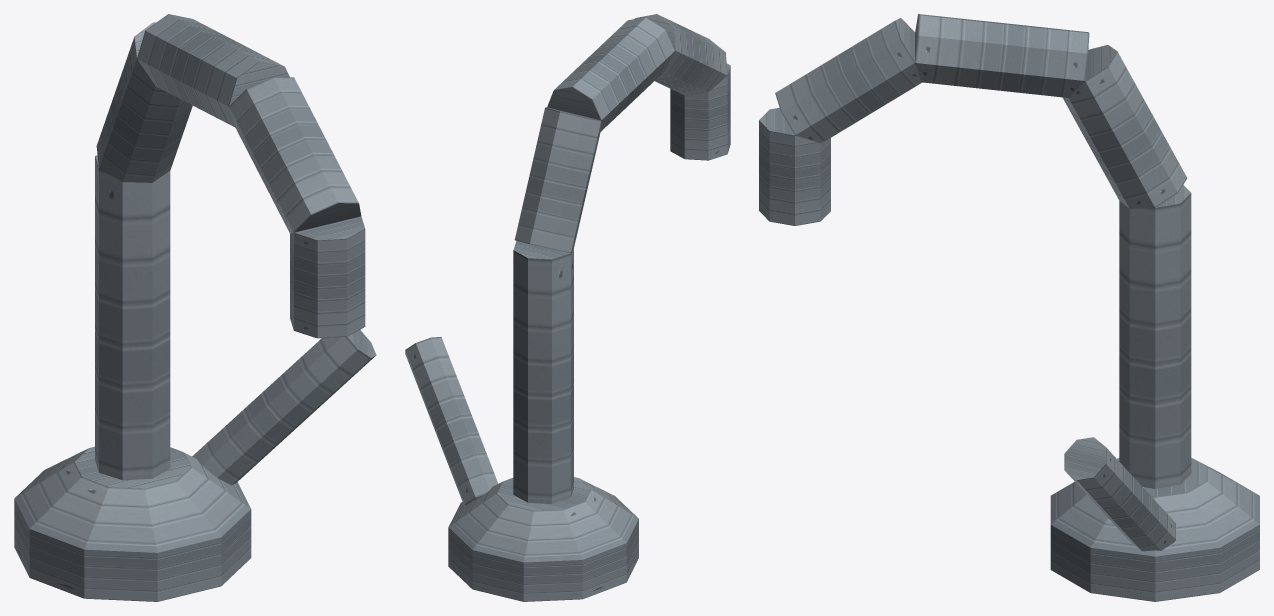
File: MD_54_MixerTap.fbx
3 renders of one model, left to right at view 1: azimuth 30°, elevation 25°; view 2: azimuth 150°, elevation 25°; view 3: azimuth 270°, elevation 25°, orthographic. The views are drawn at different scales.
Parts seen in each view (by area): view 1: MD_54_MixerTap_faucet_mount, MD_54_MixerTap_gooseneck_0, MD_54_MixerTap_gooseneck_3, MD_54_MixerTap_mixer_control, MD_54_MixerTap_gooseneck_2, MD_54_MixerTap_gooseneck_4, MD_54_MixerTap_gooseneck_1; view 2: MD_54_MixerTap_faucet_mount, MD_54_MixerTap_gooseneck_0, MD_54_MixerTap_gooseneck_1, MD_54_MixerTap_gooseneck_2, MD_54_MixerTap_mixer_control, MD_54_MixerTap_gooseneck_4, MD_54_MixerTap_gooseneck_3; view 3: MD_54_MixerTap_gooseneck_0, MD_54_MixerTap_faucet_mount, MD_54_MixerTap_gooseneck_2, MD_54_MixerTap_gooseneck_1, MD_54_MixerTap_gooseneck_3, MD_54_MixerTap_gooseneck_4, MD_54_MixerTap_mixer_control.
Boxes of the visible parts, left/top/right/bottom form: MD_54_MixerTap_faucet_mount: left=14, top=446, right=251, bottom=601; MD_54_MixerTap_gooseneck_0: left=95, top=155, right=170, bottom=480; MD_54_MixerTap_gooseneck_3: left=229, top=77, right=361, bottom=233; MD_54_MixerTap_mixer_control: left=192, top=330, right=376, bottom=485; MD_54_MixerTap_gooseneck_2: left=137, top=14, right=289, bottom=127; MD_54_MixerTap_gooseneck_4: left=290, top=216, right=365, bottom=338; MD_54_MixerTap_gooseneck_1: left=96, top=22, right=192, bottom=182; MD_54_MixerTap_faucet_mount: left=448, top=477, right=638, bottom=601; MD_54_MixerTap_gooseneck_0: left=513, top=241, right=573, bottom=503; MD_54_MixerTap_gooseneck_1: left=514, top=107, right=601, bottom=253; MD_54_MixerTap_gooseneck_2: left=547, top=17, right=675, bottom=131; MD_54_MixerTap_mixer_control: left=405, top=337, right=498, bottom=505; MD_54_MixerTap_gooseneck_4: left=670, top=63, right=730, bottom=160; MD_54_MixerTap_gooseneck_3: left=635, top=14, right=727, bottom=95; MD_54_MixerTap_gooseneck_0: left=1119, top=185, right=1191, bottom=488; MD_54_MixerTap_faucet_mount: left=1050, top=458, right=1259, bottom=601; MD_54_MixerTap_gooseneck_2: left=915, top=14, right=1089, bottom=97; MD_54_MixerTap_gooseneck_1: left=1062, top=45, right=1187, bottom=208; MD_54_MixerTap_gooseneck_3: left=775, top=18, right=921, bottom=143; MD_54_MixerTap_gooseneck_4: left=759, top=107, right=830, bottom=225; MD_54_MixerTap_mixer_control: left=1064, top=437, right=1175, bottom=551.
Size of the model in its own units: 0.1645 by 0.2979 by 0.2503.
Materials: 1 (1 with a texture image).
